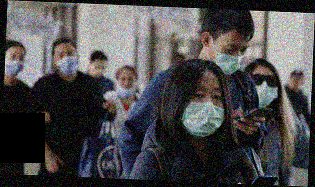mask_weared_incorrect: (115, 75, 138, 99)
with_mask: (179, 81, 227, 139), (247, 70, 279, 109), (53, 47, 79, 75), (5, 51, 26, 76)
without_mask: (89, 60, 108, 78)
